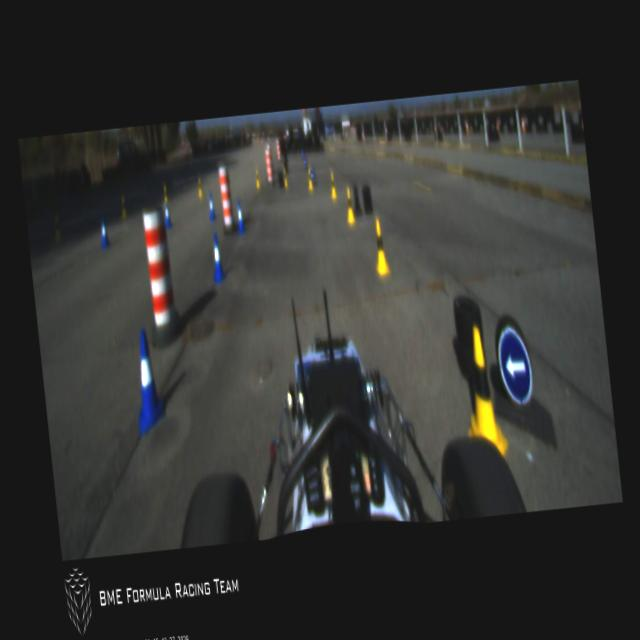blue_cone: (128, 326, 167, 434), (207, 230, 228, 284), (234, 200, 246, 234), (98, 216, 110, 250), (162, 200, 172, 228), (207, 193, 216, 220)
yellow_cone: (456, 322, 511, 464), (370, 217, 392, 277), (343, 186, 355, 225), (52, 212, 62, 240), (328, 171, 337, 199), (119, 195, 128, 220), (161, 184, 169, 207), (306, 168, 314, 190), (253, 169, 261, 189), (196, 176, 203, 198), (282, 166, 288, 188)
